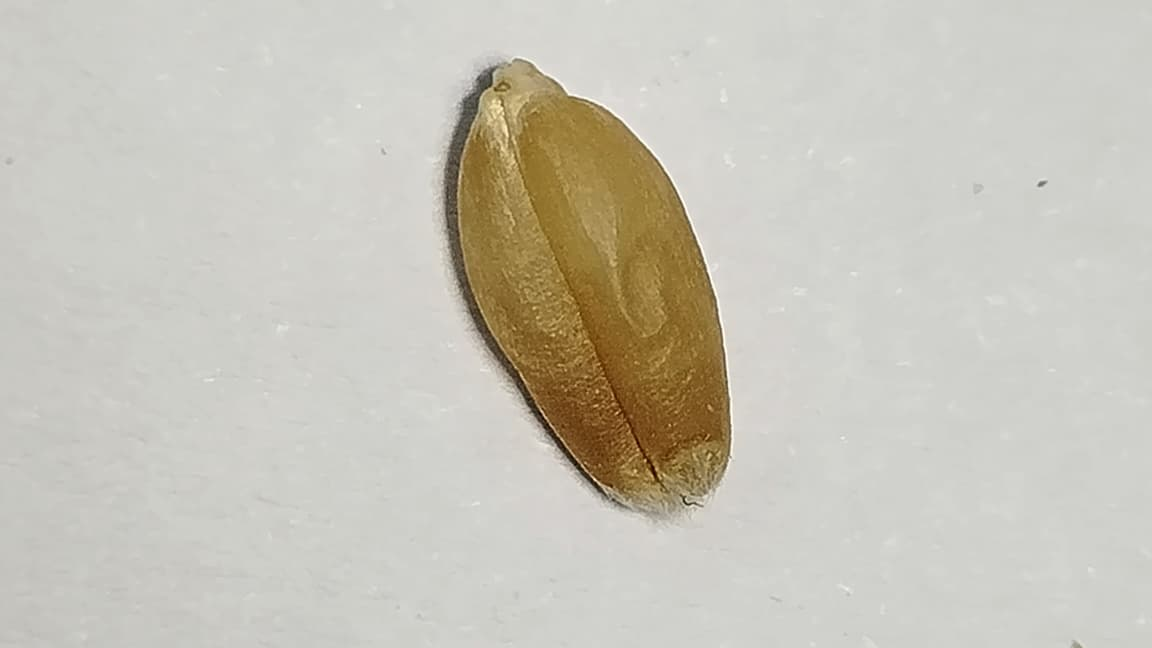healthy: (446, 58, 731, 516)
